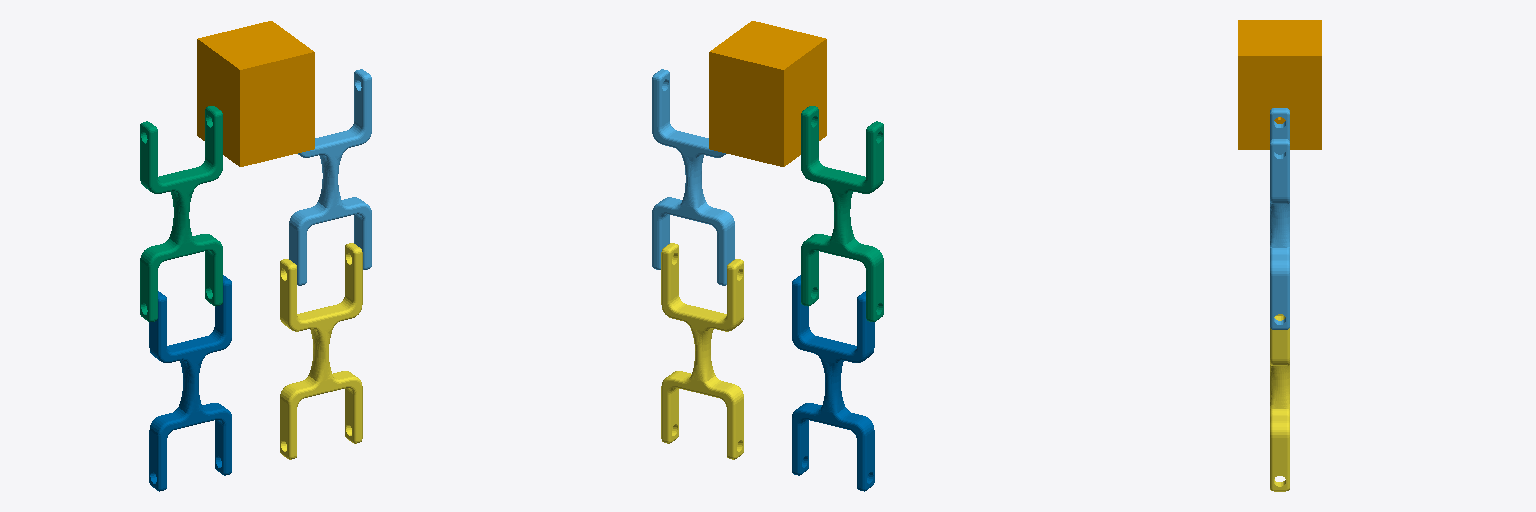
The robot description file, URDF, robot "simplebot_v10":
<?xml version="1.0"?>
<robot name="simplebot_v10">
	<link name="body_v1:1">
		<inertial>
			<mass value="0.6270135399067726"/>
			<origin rpy="0 0 0" xyz="0.0 -1.6368194021527588e-16 0.02501302876295383"/>
			<inertia ixx="0.00021449841499530944" ixy="0.0" ixz="0.0" iyy="0.00021436713359791843" iyz="-8.268457026766289e-19" izz="0.00016733489203919717"/>
		</inertial>
		<collision>
			<origin rpy="0.0 -0.0 0.0" xyz="0.0 0.0 0.0"/>
			<geometry>
				<mesh filename="./meshes/body_v1.stl" scale="0.001 0.001 0.001"/>
			</geometry>
		</collision>
		<visual>
			<origin rpy="0.0 -0.0 0.0" xyz="0.0 0.0 0.0"/>
			<geometry>
				<mesh filename="./meshes/body_v1.stl" scale="0.001 0.001 0.001"/>
			</geometry>
		</visual>
	</link>
	<link name="arm_v4:1">
		<inertial>
			<mass value="0.08563600411415896"/>
			<origin rpy="0 0 0" xyz="0.020000108108964253 -1.2777236801930768e-09 -0.044000010082646465"/>
			<inertia ixx="6.047178013888332e-05" ixy="-1.1761736486478386e-10" ixz="-2.4124275950221375e-10" iyy="7.574938670418301e-05" iyz="-1.8657195267730814e-12" izz="1.6637926888581922e-05"/>
		</inertial>
		<collision>
			<origin rpy="0.0 -1.5313421029312503e-16 0.0" xyz="0.019999999999999993 0.005 -0.044"/>
			<geometry>
				<mesh filename="./meshes/arm_v4.stl" scale="0.001 0.001 0.001"/>
			</geometry>
		</collision>
		<visual>
			<origin rpy="0.0 -1.5313421029312503e-16 0.0" xyz="0.019999999999999993 0.005 -0.044"/>
			<geometry>
				<mesh filename="./meshes/arm_v4.stl" scale="0.001 0.001 0.001"/>
			</geometry>
		</visual>
	</link>
	<link name="arm_v4:2">
		<inertial>
			<mass value="0.08563600411415896"/>
			<origin rpy="0 0 0" xyz="-0.01999989189103574 -1.2777236801930768e-09 -0.044000010082646465"/>
			<inertia ixx="6.047178013888332e-05" ixy="-1.1761736486478384e-10" ixz="-2.4124275951331596e-10" iyy="7.574938670418301e-05" iyz="-1.865719526773046e-12" izz="1.6637926888581922e-05"/>
		</inertial>
		<collision>
			<origin rpy="0.0 1.5313421029312507e-16 0.0" xyz="-0.02 0.005 -0.044"/>
			<geometry>
				<mesh filename="./meshes/arm_v4.stl" scale="0.001 0.001 0.001"/>
			</geometry>
		</collision>
		<visual>
			<origin rpy="0.0 1.5313421029312507e-16 0.0" xyz="-0.02 0.005 -0.044"/>
			<geometry>
				<mesh filename="./meshes/arm_v4.stl" scale="0.001 0.001 0.001"/>
			</geometry>
		</visual>
	</link>
	<link name="arm_v4:3">
		<inertial>
			<mass value="0.08563600411415896"/>
			<origin rpy="0 0 0" xyz="0.015000108108964304 -1.2777236801930768e-09 -0.04400001008264644"/>
			<inertia ixx="6.0471780138883525e-05" ixy="-1.1761736486478386e-10" ixz="-2.412427594578048e-10" iyy="7.574938670418305e-05" iyz="-1.865719526773187e-12" izz="1.66379268885819e-05"/>
		</inertial>
		<collision>
			<origin rpy="0.0 -1.0395456967976374e-15 0.0" xyz="0.015000000000000045 0.005 -0.043999999999999984"/>
			<geometry>
				<mesh filename="./meshes/arm_v4.stl" scale="0.001 0.001 0.001"/>
			</geometry>
		</collision>
		<visual>
			<origin rpy="0.0 -1.0395456967976374e-15 0.0" xyz="0.015000000000000045 0.005 -0.043999999999999984"/>
			<geometry>
				<mesh filename="./meshes/arm_v4.stl" scale="0.001 0.001 0.001"/>
			</geometry>
		</visual>
	</link>
	<link name="arm_v4:4">
		<inertial>
			<mass value="0.08563600411415896"/>
			<origin rpy="0 0 0" xyz="-0.014999891891035764 -1.2777236801930768e-09 -0.04400001008264644"/>
			<inertia ixx="6.0471780138883525e-05" ixy="-1.1761736486478386e-10" ixz="-2.412427596354405e-10" iyy="7.574938670418287e-05" iyz="-1.865719526772951e-12" izz="1.6637926888581943e-05"/>
		</inertial>
		<collision>
			<origin rpy="0.0 9.62978591651075e-16 0.0" xyz="-0.01500000000000003 0.005 -0.043999999999999984"/>
			<geometry>
				<mesh filename="./meshes/arm_v4.stl" scale="0.001 0.001 0.001"/>
			</geometry>
		</collision>
		<visual>
			<origin rpy="0.0 9.62978591651075e-16 0.0" xyz="-0.01500000000000003 0.005 -0.043999999999999984"/>
			<geometry>
				<mesh filename="./meshes/arm_v4.stl" scale="0.001 0.001 0.001"/>
			</geometry>
		</visual>
	</link>
	<joint name="rev0" type="revolute">
		<parent link="body_v1:1"/>
		<child link="arm_v4:1"/>
		<origin rpy="0 0 0" xyz="0.020000000000000007 0.0 0.01671866065705706"/>
		<axis xyz="-1.0 0.0 0.0"/>
		<limit effort="10" lower="-1.5707963267948966" upper="1.5707963267948966" velocity="10"/>
	</joint>
	<joint name="rev1" type="revolute">
		<parent link="body_v1:1"/>
		<child link="arm_v4:2"/>
		<origin rpy="0 0 0" xyz="-0.02 0.0 0.01671866065705706"/>
		<axis xyz="1.0 0.0 0.0"/>
		<limit effort="10" lower="-1.5707963267948966" upper="1.5707963267948966" velocity="10"/>

	</joint>
	<joint name="rev2" type="revolute">
		<parent link="arm_v4:1"/>
		<child link="arm_v4:3"/>
		<origin rpy="0 0 0" xyz="0.0 0.0 -0.088"/>
		<axis xyz="1.0 0.0 6.125368411725003e-16"/>
		<limit effort="10" lower="-1.5707963267948966" upper="1.5707963267948966" velocity="10"/>

	</joint>
	<joint name="rev3" type="revolute">
		<parent link="arm_v4:2"/>
		<child link="arm_v4:4"/>
		<origin rpy="0 0 0" xyz="-1.3877787807814457e-17 0.0 -0.088"/>
		<axis xyz="-1.0 0.0 5.359697360259377e-16"/>
		<limit effort="10" lower="-1.5707963267948966" upper="1.5707963267948966" velocity="10"/>
	</joint>
</robot>

--- Facts derived from the render (not from the file) ---
3 views of the same robot in one strip: view 1: azimuth 30°, elevation 25°; view 2: azimuth 150°, elevation 25°; view 3: azimuth 270°, elevation 25° (orthographic).
Robot: simplebot_v10 — 5 links, 4 joints (4 revolute); root link body_v1:1; default pose: all joints at 0.
Links seen in each view (by area): view 1: body_v1:1, arm_v4:2, arm_v4:3, arm_v4:4, arm_v4:1; view 2: body_v1:1, arm_v4:2, arm_v4:3, arm_v4:4, arm_v4:1; view 3: body_v1:1, arm_v4:1, arm_v4:3.
Link boxes in pixels (box(x1,y1,x2,y2)): body_v1:1: box(197, 21, 314, 166); arm_v4:2: box(140, 106, 222, 321); arm_v4:3: box(280, 243, 362, 459); arm_v4:4: box(149, 275, 231, 491); arm_v4:1: box(289, 69, 371, 285); body_v1:1: box(709, 21, 826, 166); arm_v4:2: box(801, 106, 883, 321); arm_v4:3: box(661, 243, 743, 459); arm_v4:4: box(792, 275, 874, 491); arm_v4:1: box(652, 69, 734, 285); body_v1:1: box(1238, 20, 1321, 149); arm_v4:1: box(1270, 108, 1289, 329); arm_v4:3: box(1270, 314, 1289, 491).
Bounding box of the posed robot: 0.12 × 0.04 × 0.2153 m (x, y, z).
Meshes: 2 distinct files referenced, 5 mesh visuals loaded (2 binary STL).
